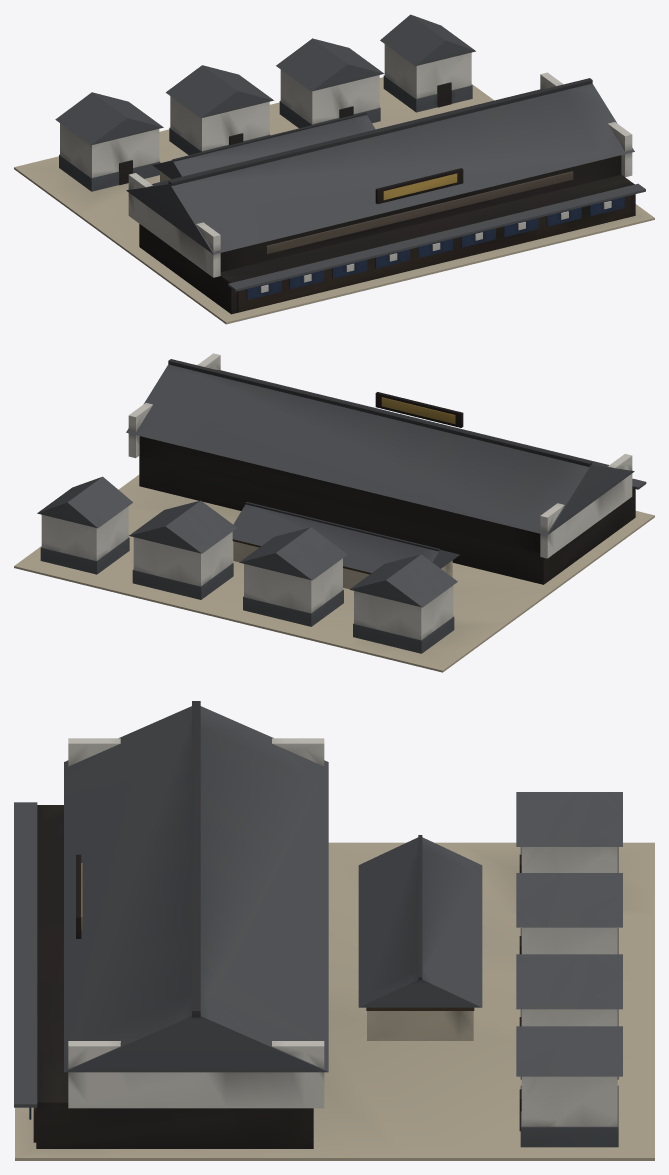
The model's file is echigoya.glb.
3 views of the same model, one above another, from view 1: azimuth 30°, elevation 25°; view 2: azimuth 150°, elevation 25°; view 3: azimuth 270°, elevation 25° (orthographic). The views are drawn at different scales.
Visible parts, largest first — view 1: p1_shop, p2_storehouses, p0_ground; view 2: p1_shop, p2_storehouses, p0_ground; view 3: p1_shop, p2_storehouses, p0_ground.
Part boxes in pixels (x1,y1,x2,y2): p1_shop: [126, 72, 645, 314]; p2_storehouses: [55, 14, 475, 191]; p0_ground: [14, 77, 654, 324]; p1_shop: [126, 353, 646, 584]; p2_storehouses: [37, 476, 459, 653]; p0_ground: [14, 475, 654, 672]; p1_shop: [14, 701, 328, 1148]; p2_storehouses: [358, 792, 622, 1147]; p0_ground: [15, 842, 654, 1160].
Bounding box in the file's own units: 70 × 15.23 × 60.1.
